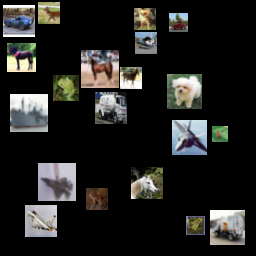airplane: (157, 72, 179, 94)
automobile: (214, 214, 243, 243), (118, 91, 144, 117)
bird: (71, 61, 90, 80), (28, 88, 47, 107)
cat: (51, 216, 86, 251), (186, 46, 218, 78), (52, 171, 81, 200), (120, 11, 142, 33)
deer: (175, 130, 201, 156), (79, 119, 105, 145)
dog: (207, 95, 245, 133), (14, 17, 52, 55), (76, 81, 105, 110), (179, 5, 198, 24)
frog: (120, 127, 152, 159), (55, 20, 84, 49)
